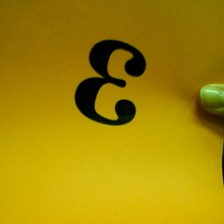orange3: (73, 35, 151, 132)
